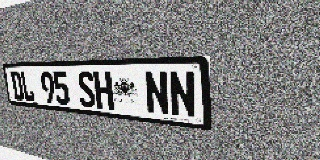5: (52, 71, 70, 105)
9: (40, 71, 57, 104)
D: (10, 71, 24, 101)
H: (93, 71, 114, 110)
L: (20, 71, 35, 102)
N: (168, 71, 197, 119), (144, 71, 170, 116)
S: (76, 71, 96, 108)
